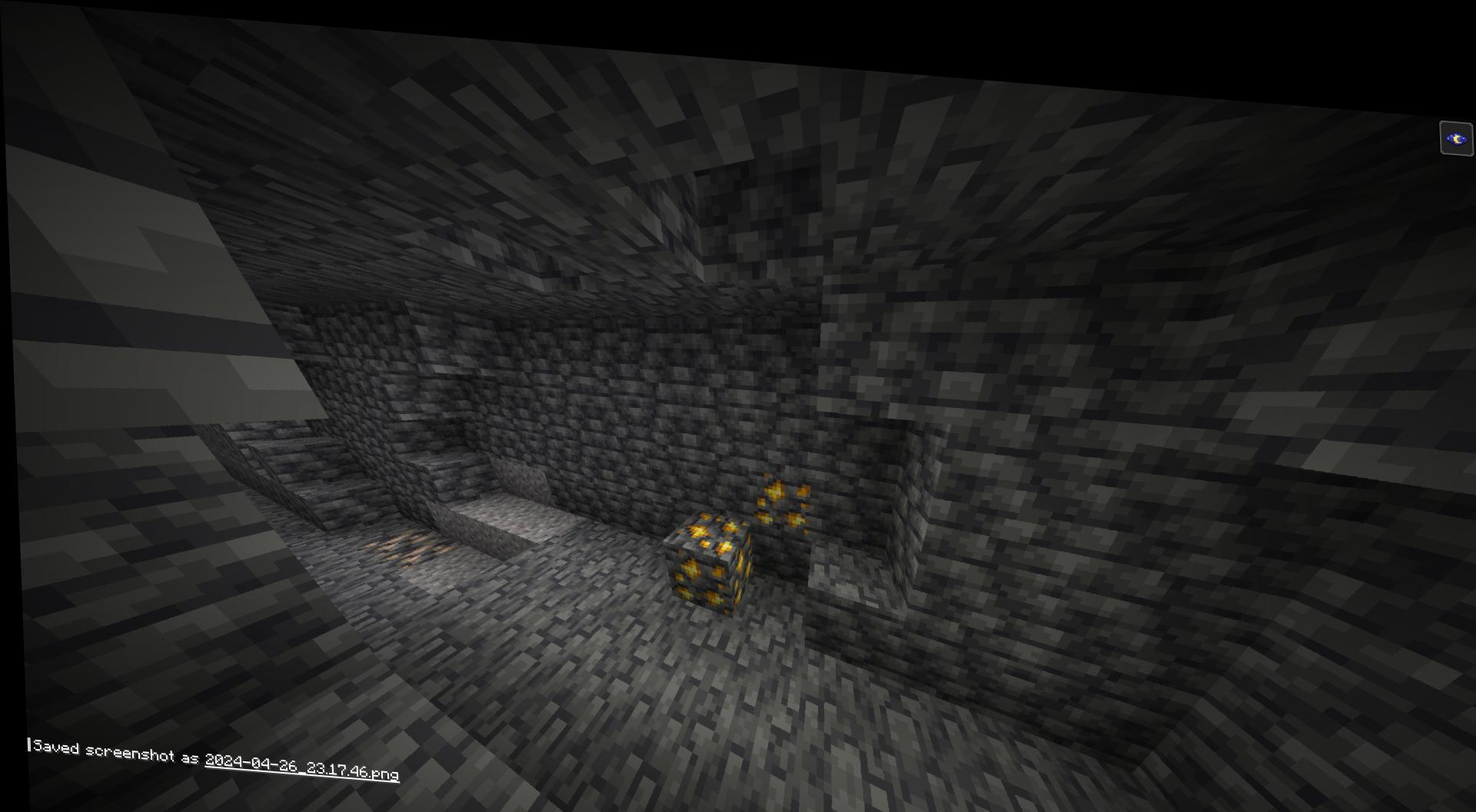gold ore: (662, 536, 728, 602), (663, 494, 747, 545), (751, 458, 805, 517), (727, 522, 751, 597)
iron ore: (361, 514, 450, 569)
